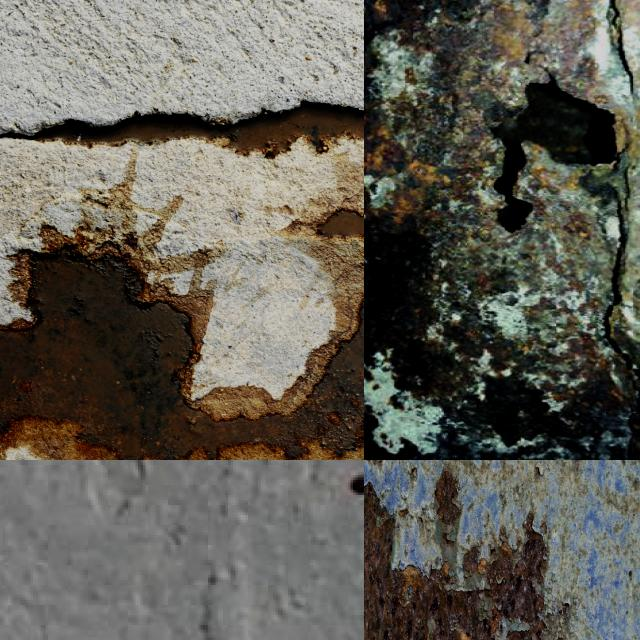Crack: (603, 150, 640, 406), (613, 33, 632, 93), (610, 0, 623, 32)
Pitting Corrosion: (481, 531, 545, 640)
Uniform Corrosion: (0, 253, 364, 460), (38, 102, 364, 156), (320, 211, 364, 237)
